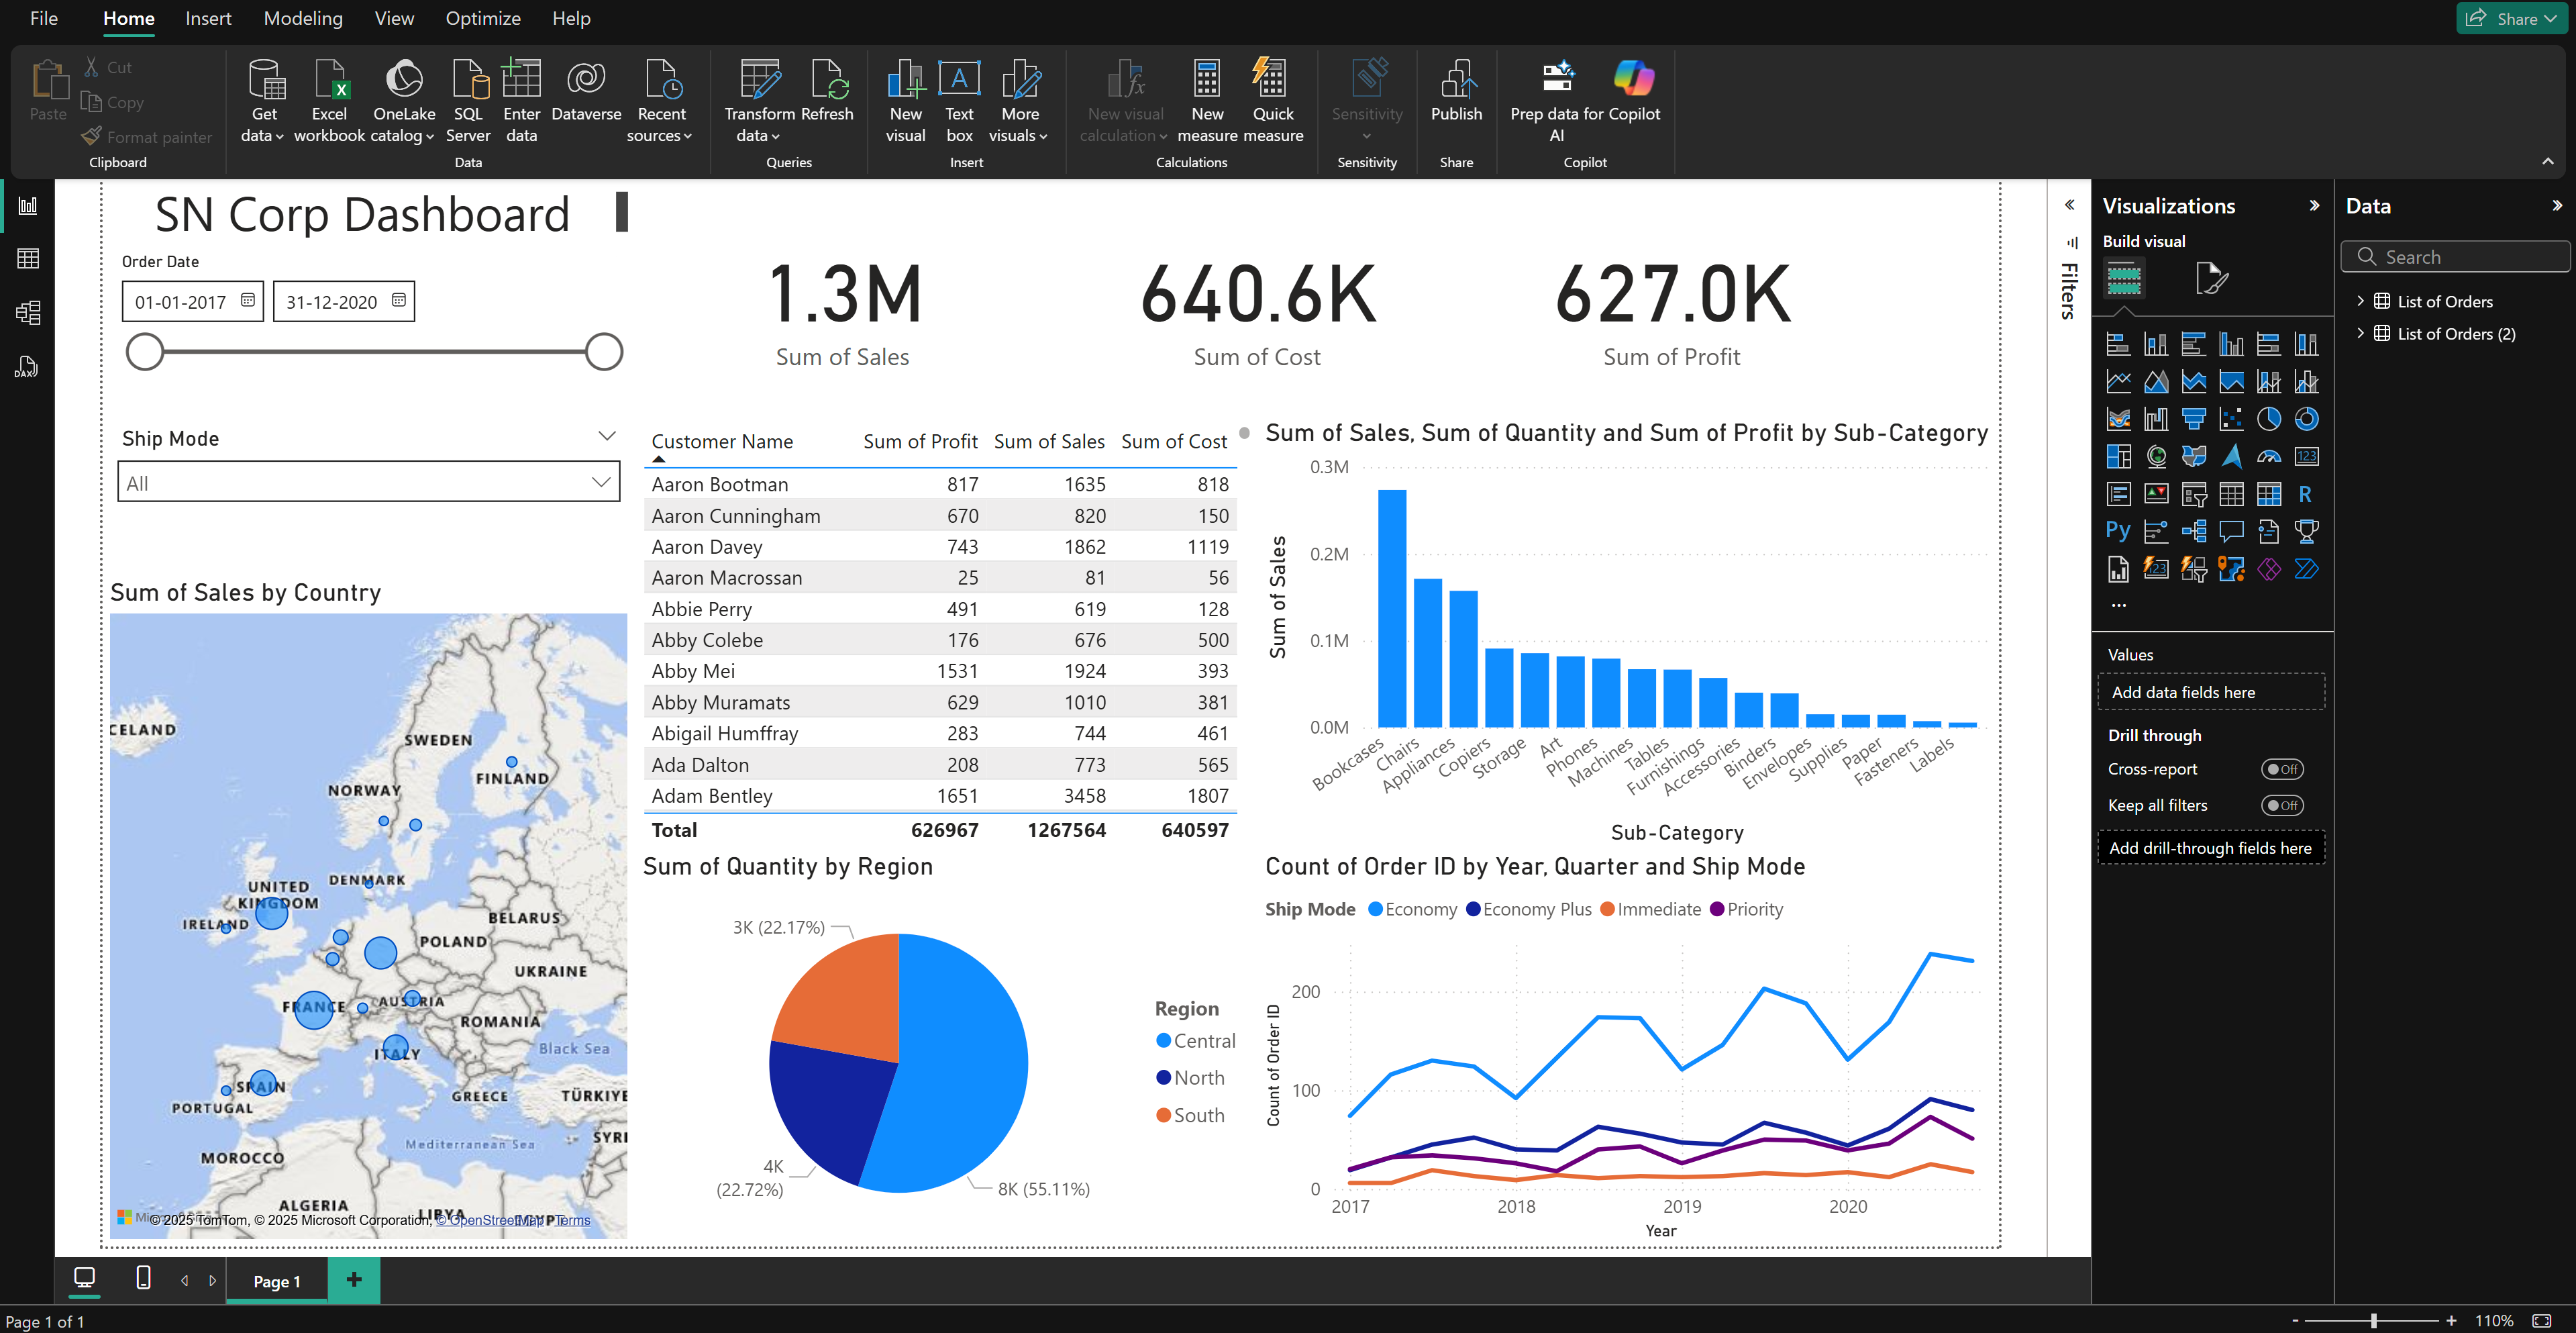

The dashboard page shown, as its layout file describes it:
{"tool":"powerbi","page":{"name":"Page 1","canvas":[1280,720],"ordinal":0},"visuals":[{"type":"card","fields":{"Values":["Sum(List of Orders.Sales)"]},"box":[359.4,0,279.9,161.4],"z":0},{"type":"textbox","box":[590.1,0,300.5,279.9],"z":1000},{"type":"tableEx","fields":{"Values":["List of Orders.Customer Name","Sum(List of Orders.Profit)","Sum(List of Orders.Sales)","Sum(List of Orders.Cost)"]},"box":[359.4,161.4,420.5,292.2],"z":2000},{"type":"card","fields":{"Values":["Sum(List of Orders.Cost)"]},"box":[639.3,0,279.9,161.4],"z":3000},{"type":"card","fields":{"Values":["Sum(List of Orders.Profit)"]},"box":[919.3,0,279.9,161.4],"z":4000},{"type":"clusteredColumnChart","fields":{"Category":["List of Orders.Sub-Category"],"Y":["Sum(List of Orders.Sales)"]},"box":[779.9,161.4,500,292.2],"z":5000},{"type":"lineChart","fields":{"Y":["CountNonNull(List of Orders (2).Order ID)"],"Category":["List of Orders (2).Order Date.Variation.Date Hierarchy.Year","List of Orders (2).Order Date.Variation.Date Hierarchy.Quarter"],"Series":["List of Orders (2).Ship Mode"]},"box":[779.9,453.5,500,266.5],"z":6000},{"type":"pieChart","fields":{"Y":["Sum(List of Orders (2).Quantity)"],"Category":["List of Orders (2).Region"]},"box":[359.4,453.5,420.5,266.5],"z":7000},{"type":"map","fields":{"Size":["Sum(List of Orders.Sales)"],"Category":["List of Orders.Country"]},"box":[0,268.9,359.4,451.1],"z":8000},{"type":"textbox","box":[0,0,359.4,44],"z":9000},{"type":"slicer","fields":{"Values":["List of Orders.Ship Mode"]},"box":[0,161.4,359.4,99],"z":10000},{"type":"slicer","fields":{"Values":["List of Orders (2).Order Date"]},"box":[0,44,359.4,117.4],"z":11000}]}

Visuals, with their boxes on the page's 1280x720 design canvas (x1, y1, x2, y2). These are canvas units, not pixel positions in the 2576x1333 screenshot, which may show the page scaled, cropped or inside an application window:
card - Sum(List of Orders.Sales): (359,0,639,161)
textbox: (590,0,891,280)
tableEx - List of Orders.Customer Name x Sum(List of Orders.Profit): (359,161,780,454)
card - Sum(List of Orders.Cost): (639,0,919,161)
card - Sum(List of Orders.Profit): (919,0,1199,161)
clusteredColumnChart - List of Orders.Sub-Category x Sum(List of Orders.Sales): (780,161,1280,454)
lineChart - CountNonNull(List of Orders (2).Order ID) x List of Orders (2).Order Date.Variation.Date Hierarchy.Year: (780,454,1280,720)
pieChart - Sum(List of Orders (2).Quantity) x List of Orders (2).Region: (359,454,780,720)
map - Sum(List of Orders.Sales) x List of Orders.Country: (0,269,359,720)
textbox: (0,0,359,44)
slicer - List of Orders.Ship Mode: (0,161,359,260)
slicer - List of Orders (2).Order Date: (0,44,359,161)
